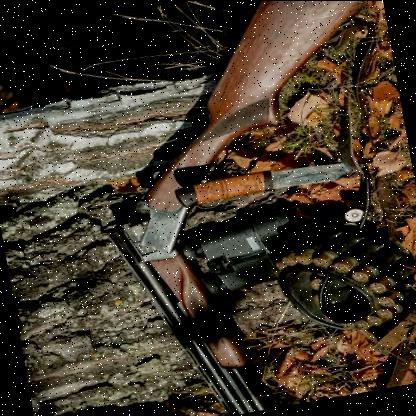rifle: (75, 0, 416, 416)
